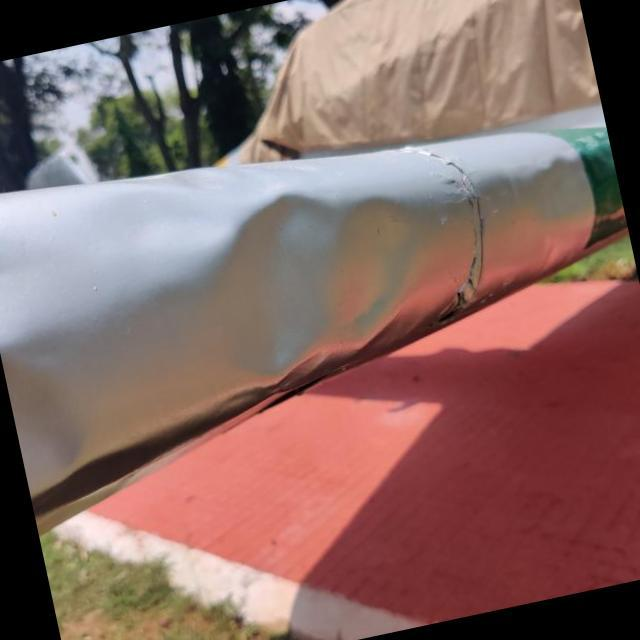Dent: (137, 138, 468, 428), (0, 307, 137, 495)
